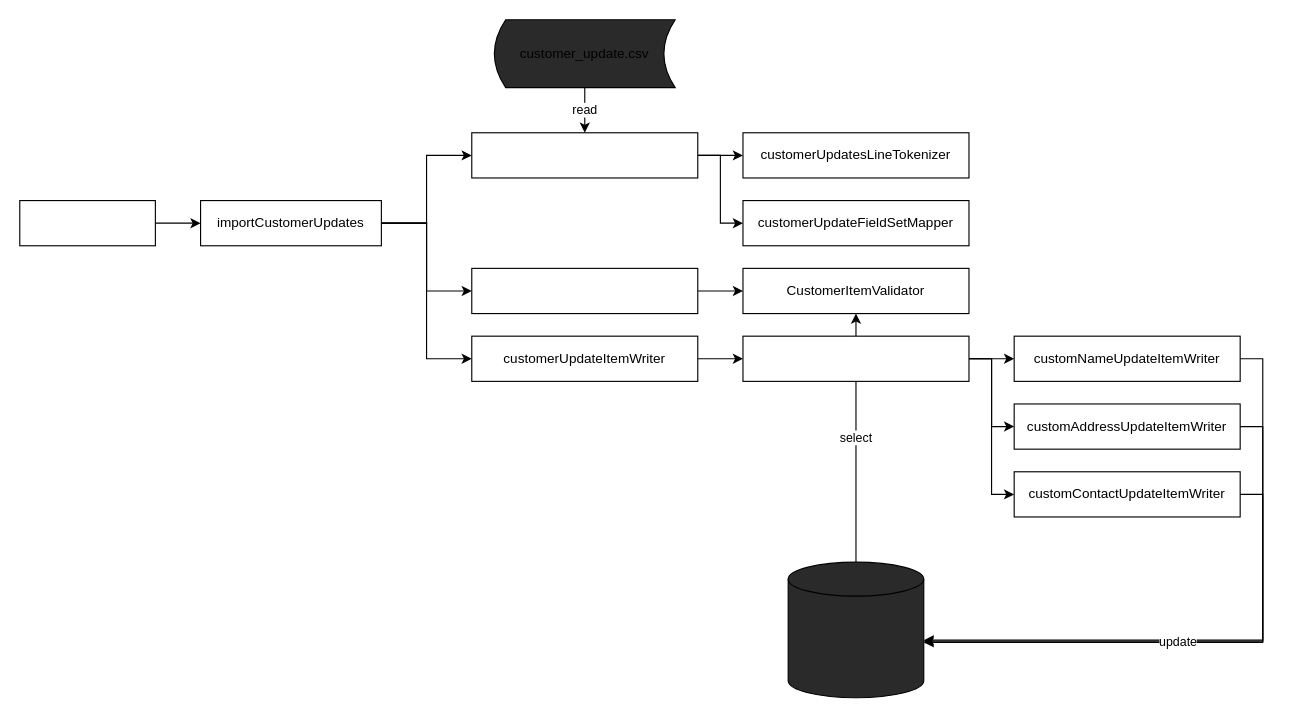
This 1292x718 diagram has some shape labels left out. Each missing label, with the centre of its shape:
"CUSTOMER" belongs at (x=855, y=629).
"customerUpdateItemReader" belongs at (x=584, y=155).
"customerValidatingItemProcessor" belongs at (x=584, y=290).
"CustomUpdateClassifier" belongs at (x=855, y=358).
"importJob" belongs at (x=87, y=222).
